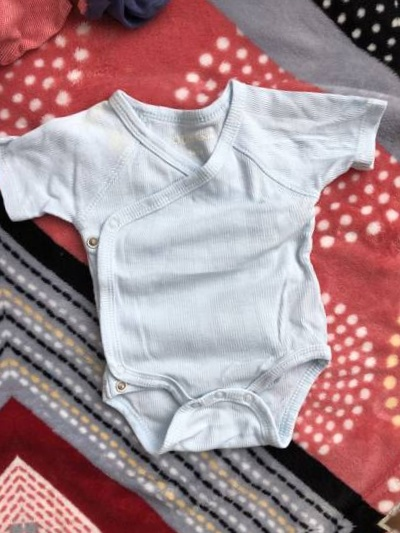Body: (0, 55, 400, 474), (0, 92, 14, 511)
